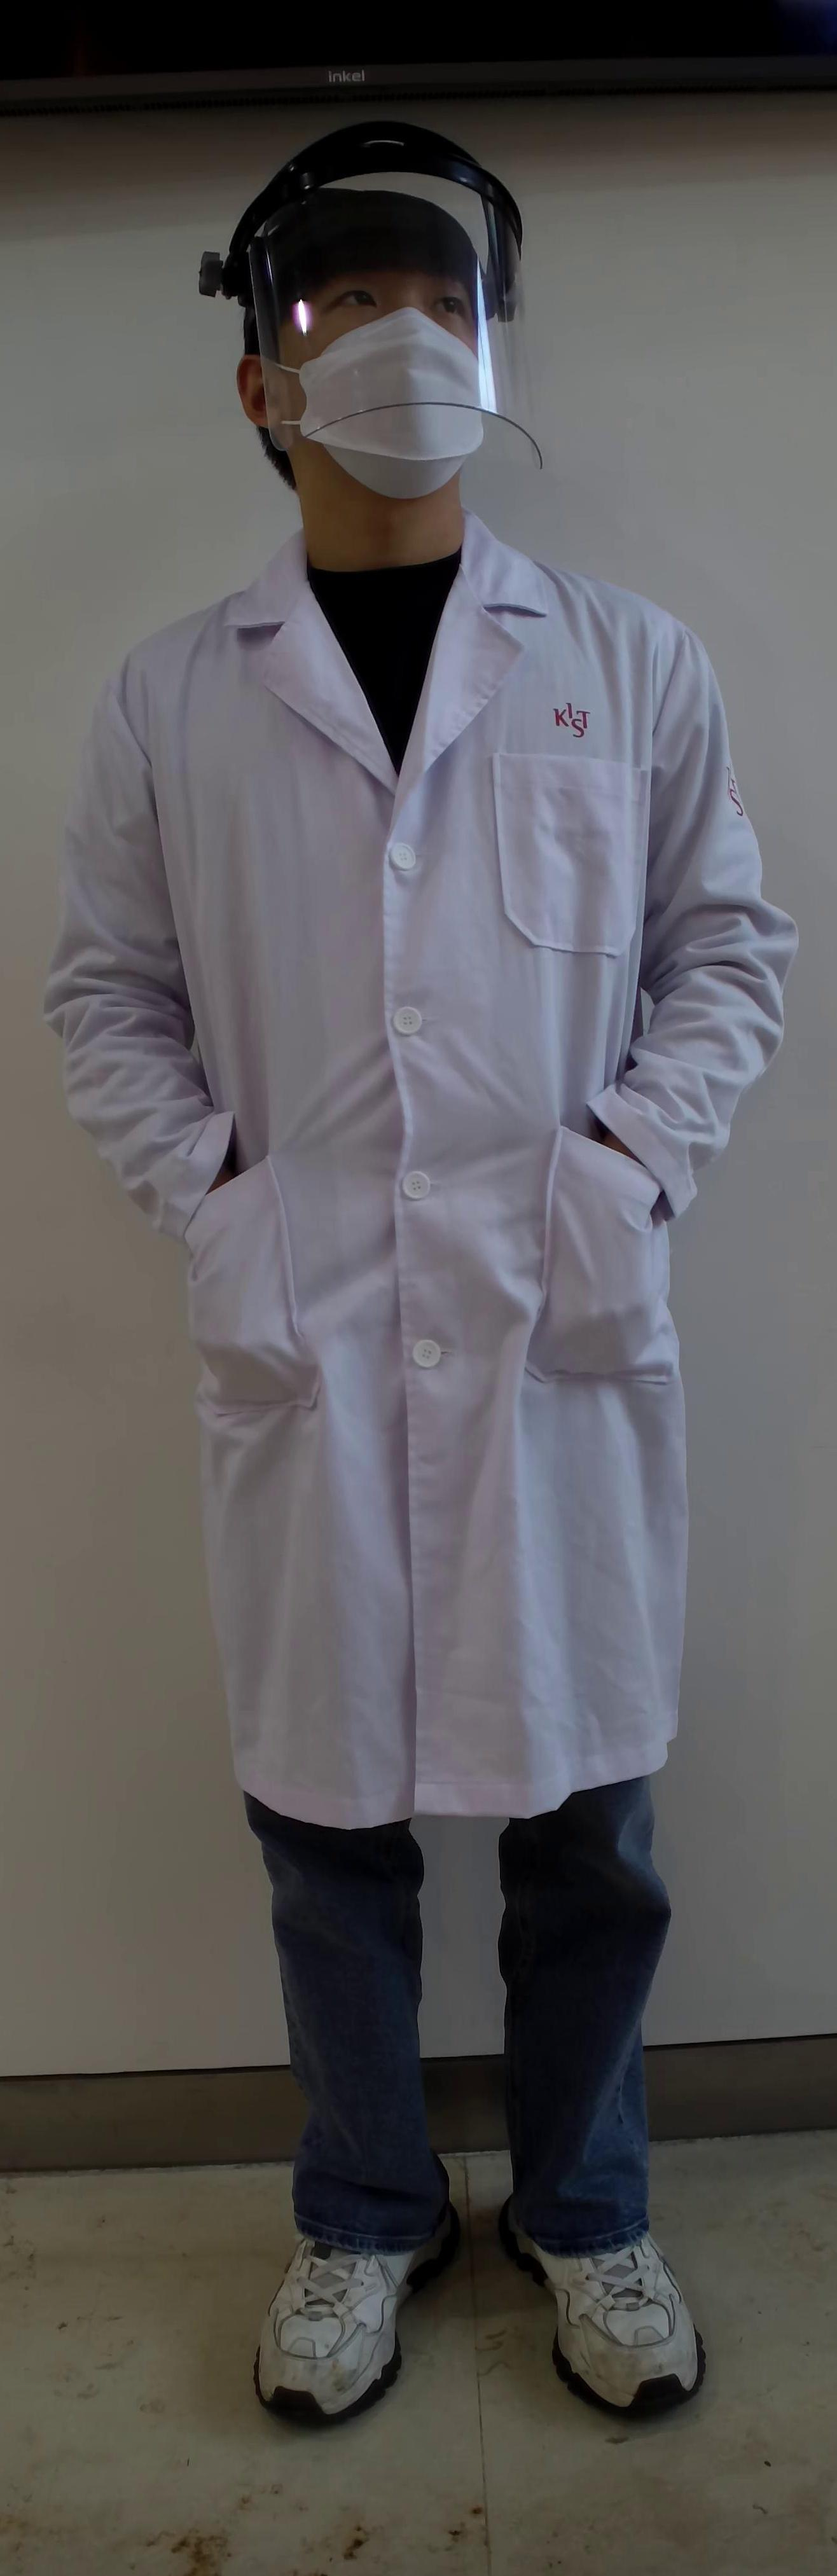lab_coat: (34, 600, 765, 1799)
